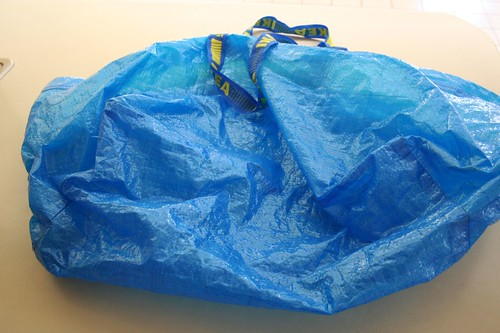plastic bag: (19, 15, 500, 316)
